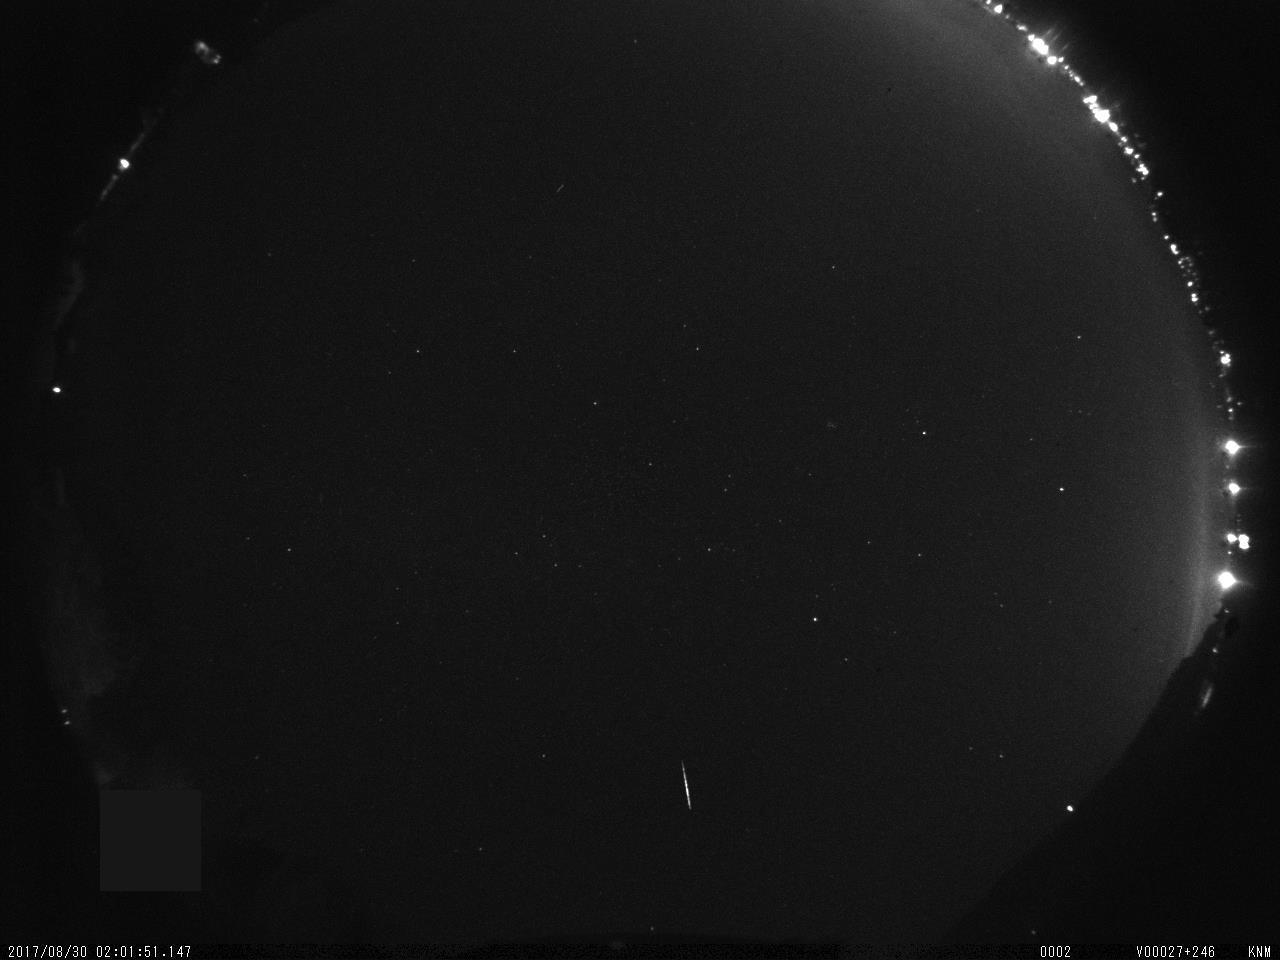Meteor: (677, 756, 693, 810)
